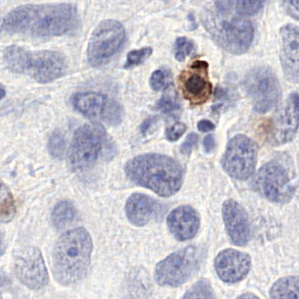Lymphocyte: (176, 61, 214, 99)
